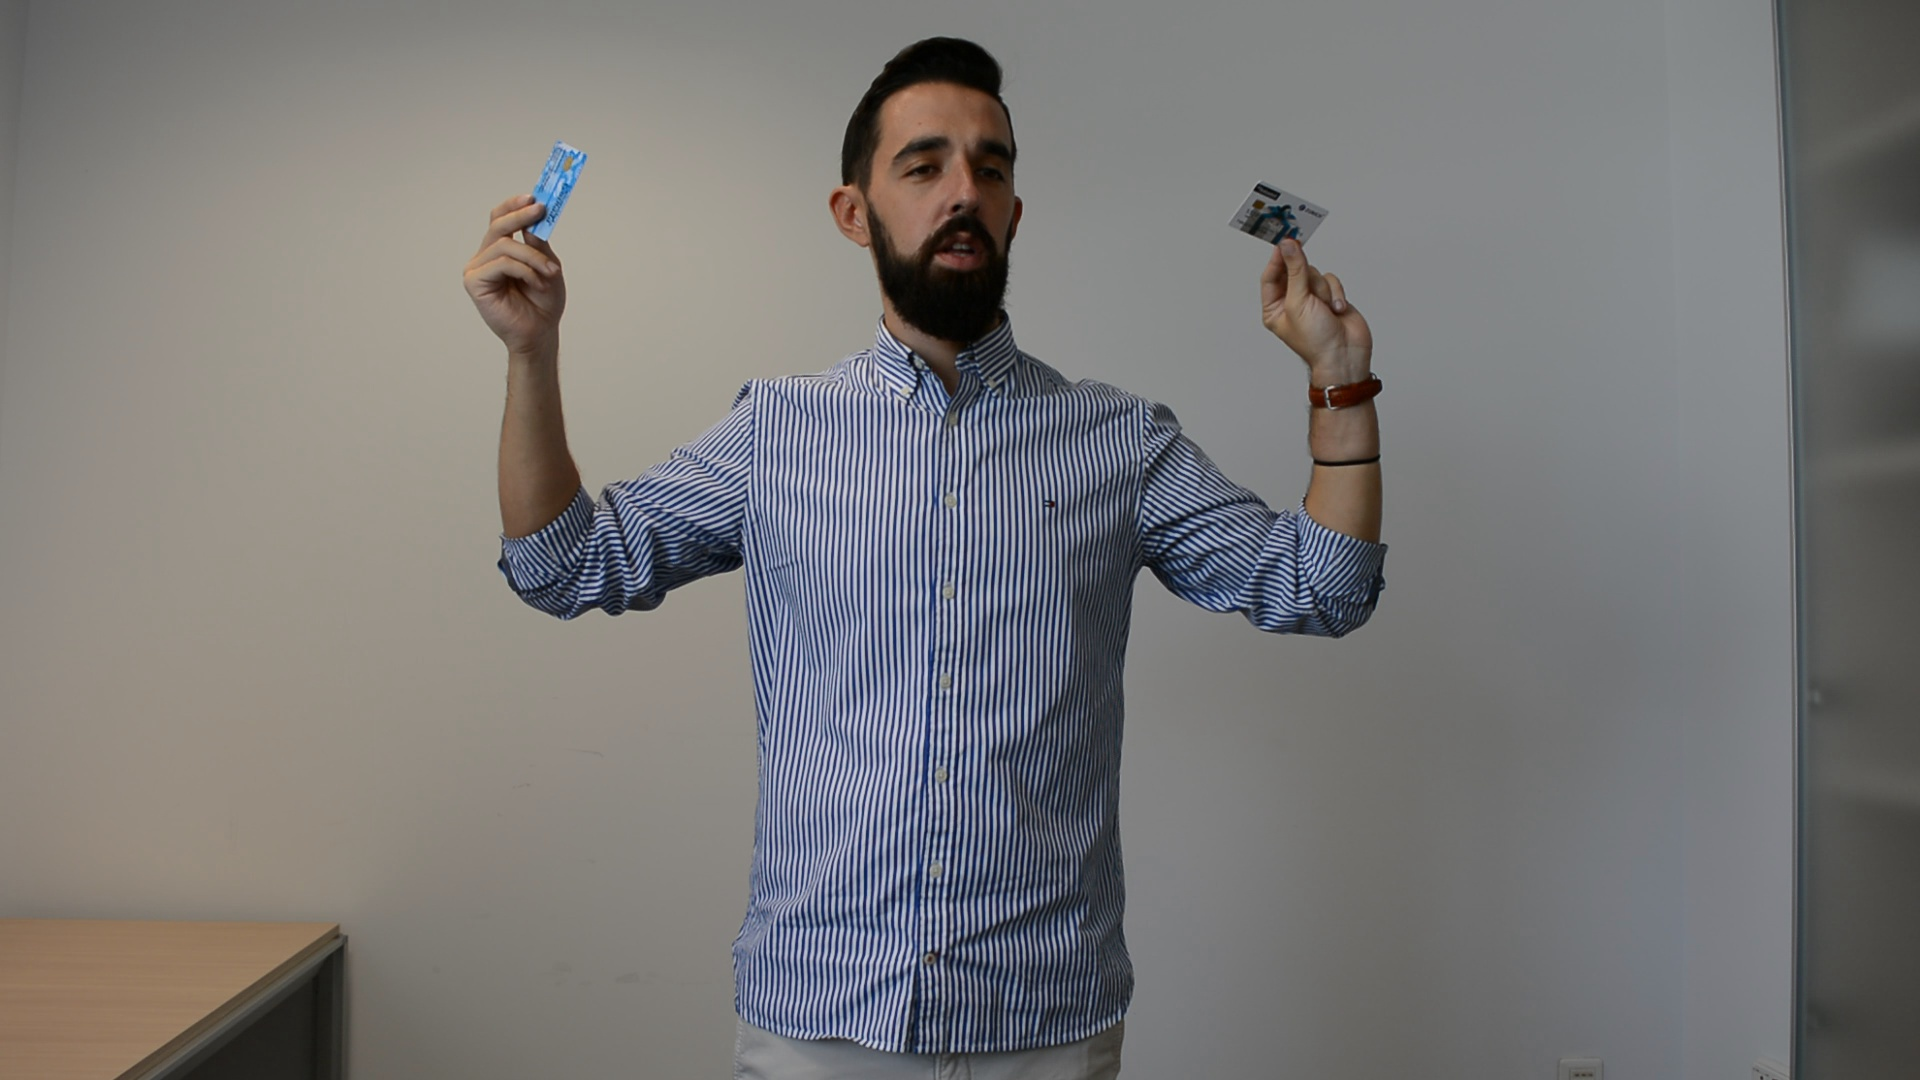tarjeta: (1224, 177, 1333, 251), (520, 137, 589, 243)
